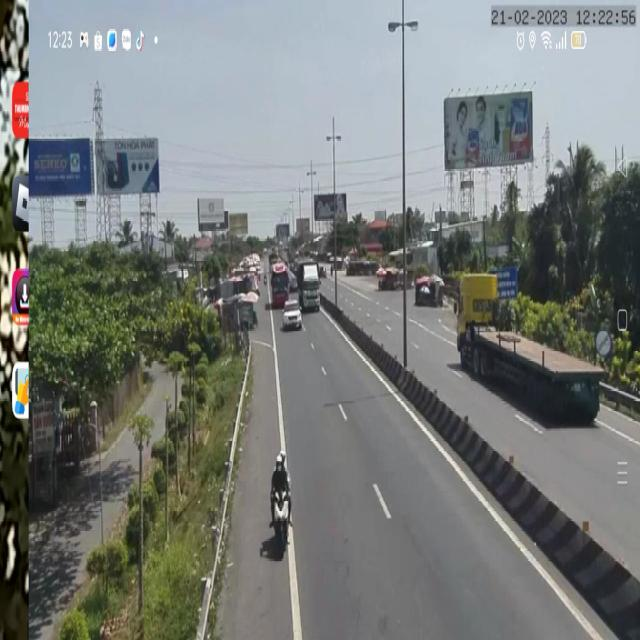bus: (270, 258, 288, 304)
car: (284, 300, 303, 331)
motorbike: (270, 444, 294, 558)
truck: (454, 266, 606, 428), (293, 258, 321, 314)
